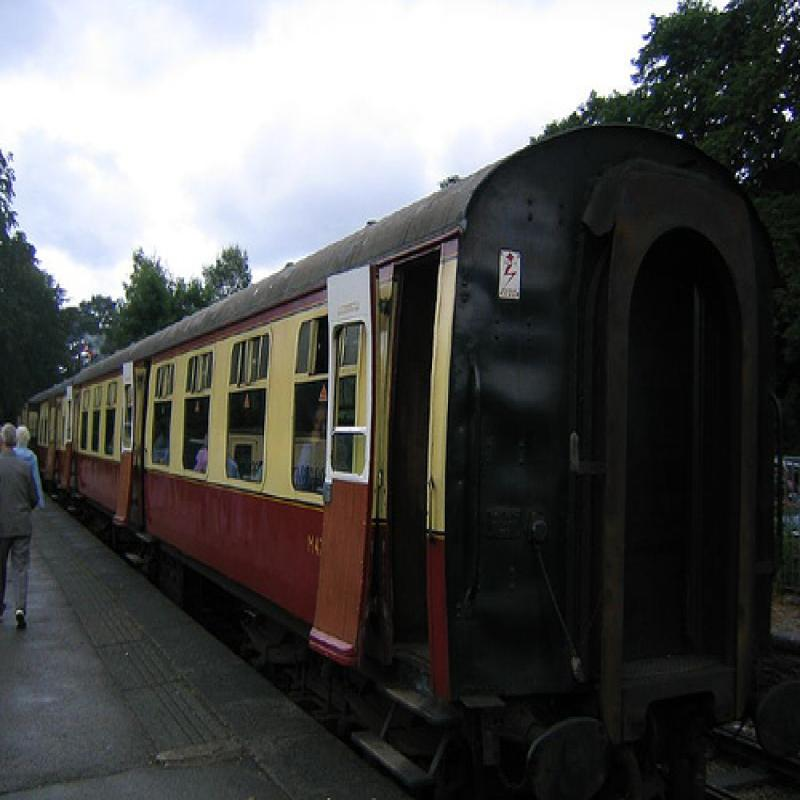train: (19, 125, 795, 797)
